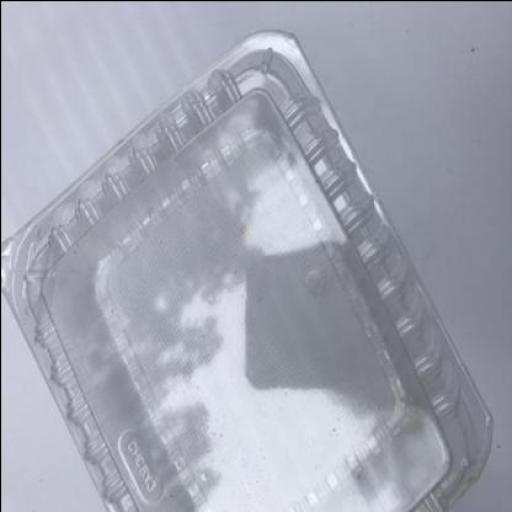plastic: (1, 27, 491, 511)
